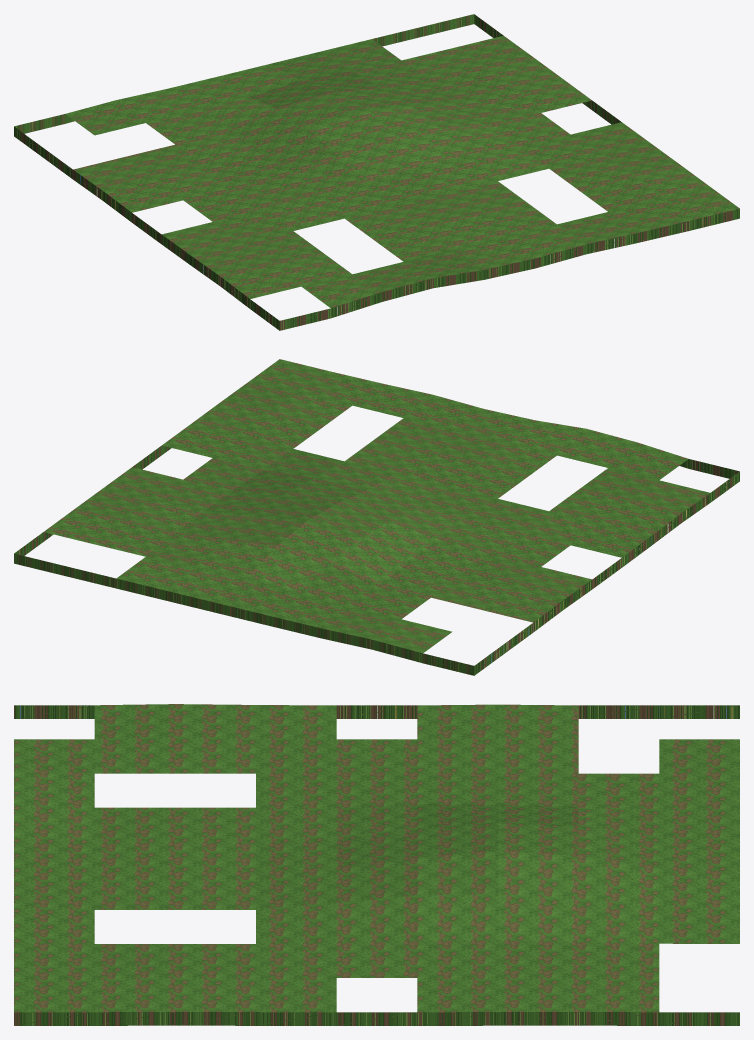
Rendered from rv_terrain_32_lod2.gltf.
3 views of the same model, one above another, from view 1: azimuth 30°, elevation 25°; view 2: azimuth 150°, elevation 25°; view 3: azimuth 270°, elevation 25° (orthographic). The views are drawn at different scales.
Visible parts, largest first — view 1: RV_Terrain_32_lod2; view 2: RV_Terrain_32_lod2; view 3: RV_Terrain_32_lod2.
Part boxes in pixels (x1=…): RV_Terrain_32_lod2: x1=14, y1=14, x2=739, y2=330; RV_Terrain_32_lod2: x1=14, y1=359, x2=739, y2=675; RV_Terrain_32_lod2: x1=14, y1=704, x2=739, y2=1025.
Size of the model in its own units: 72 by 4.19 by 72.
2 materials, 1 textured.
